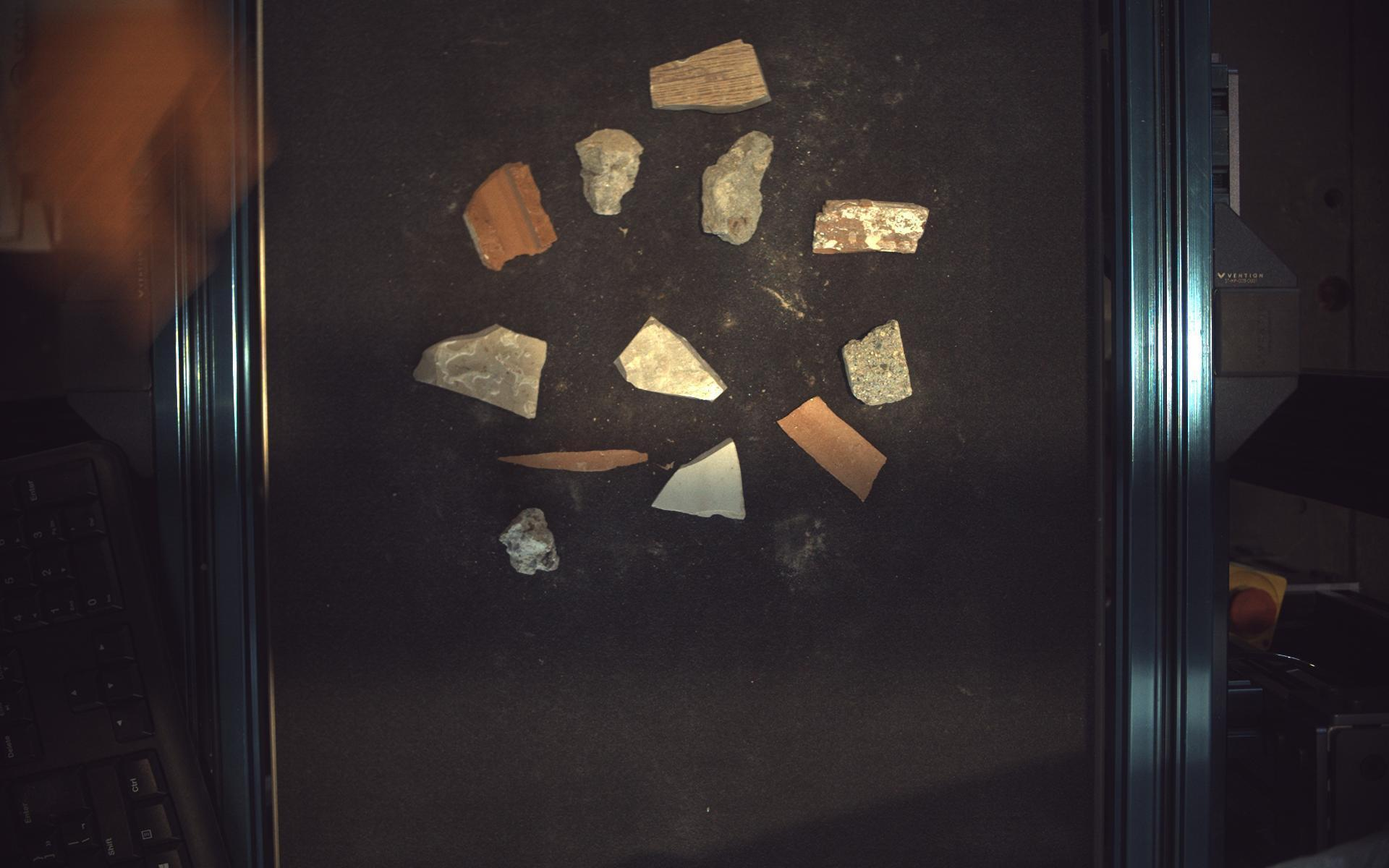brick: (779, 396, 888, 501), (464, 161, 557, 271), (814, 198, 930, 254), (498, 450, 649, 472)
concrete: (702, 130, 775, 244), (844, 320, 914, 405), (577, 127, 644, 215), (499, 508, 560, 576)
tile: (414, 324, 548, 419), (615, 317, 728, 401), (651, 38, 772, 112), (653, 438, 747, 520)
